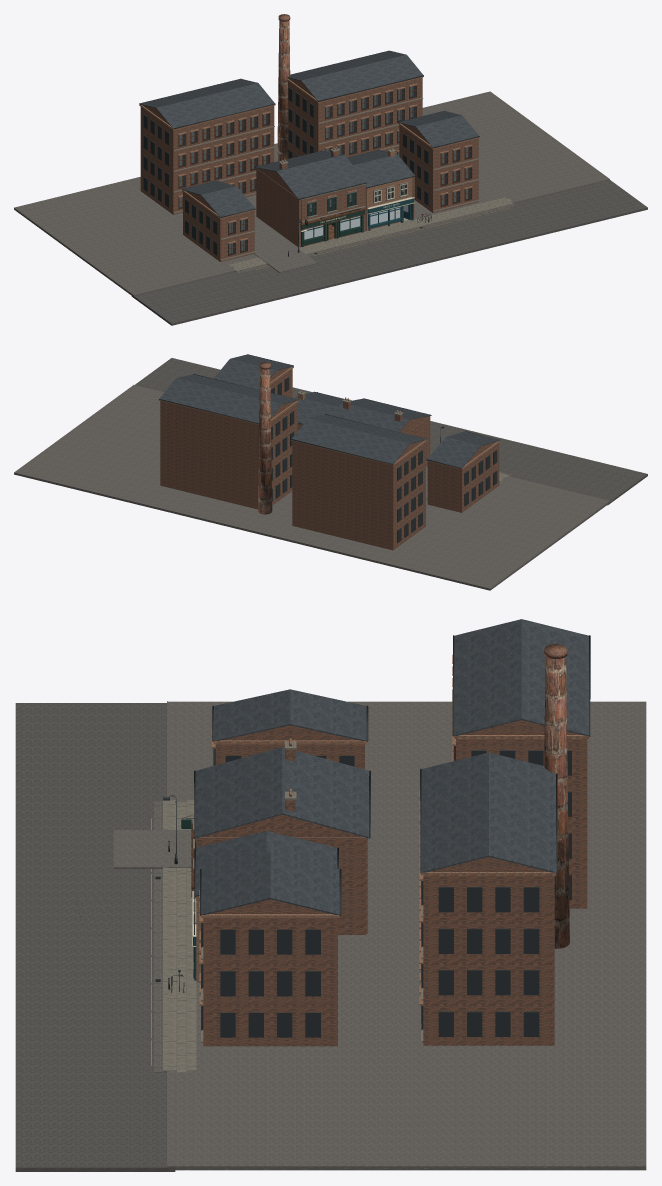
The model's file is shuttle_street.glb.
The picture shows the model from 3 angles, top to bottom: view 1: azimuth 30°, elevation 25°; view 2: azimuth 150°, elevation 25°; view 3: azimuth 270°, elevation 25°; orthographic projection. The views are drawn at different scales.
Visible parts, largest first — view 1: Street and backdrop, Shop interior, Pub interior, Pub windows glass, Shop windows glass; view 2: Street and backdrop, Shop interior, Pub interior; view 3: Street and backdrop, Shop interior, Pub interior.
Part boxes in pixels (x1,y1,x2,y2): Street and backdrop: [14, 14, 647, 325]; Shop interior: [134, 91, 609, 295]; Pub interior: [22, 199, 359, 296]; Pub windows glass: [179, 114, 360, 253]; Shop windows glass: [326, 86, 468, 224]; Street and backdrop: [14, 354, 647, 590]; Shop interior: [14, 369, 608, 500]; Pub interior: [419, 416, 609, 583]; Street and backdrop: [15, 619, 646, 1171]; Shop interior: [167, 702, 645, 1170]; Pub interior: [116, 701, 364, 868].
Bounding box in the file's own units: 67 × 20.16 × 38.44.
Materials: 39 (11 with a texture image).
